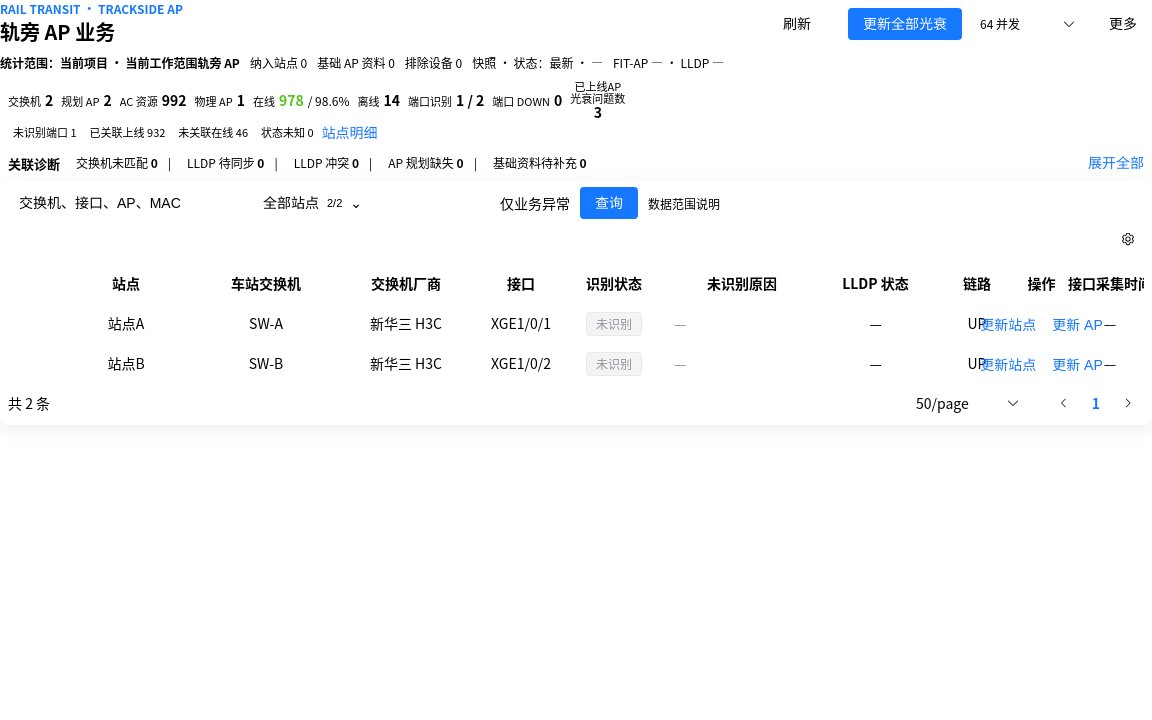
Test: TracksideApBusinessView mounted behavior › uses station detail count only when the online status omits scope_station_count
Step 1. Click the button "站点明细" → (350, 133), box [322,126,378,140]
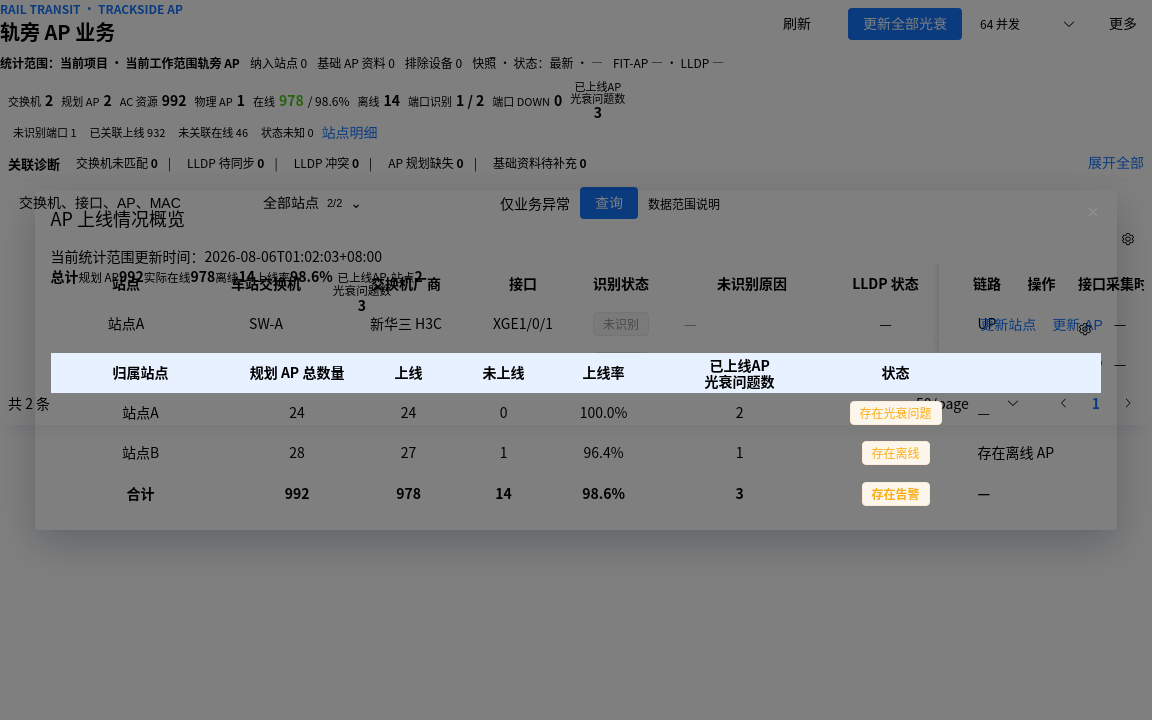
Expected: the element with test id "trackside-online-status-summary" shows "站点2", [51,266,423,315]
Expected: the element with test id "trackside-online-status-summary" shows "规划 AP992", [51,266,423,315]
